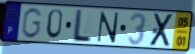0: (44, 8, 64, 41)
3: (127, 11, 149, 48)
G: (20, 6, 44, 40)
L: (70, 8, 94, 44)
N: (95, 10, 120, 44)
X: (148, 13, 176, 48)
